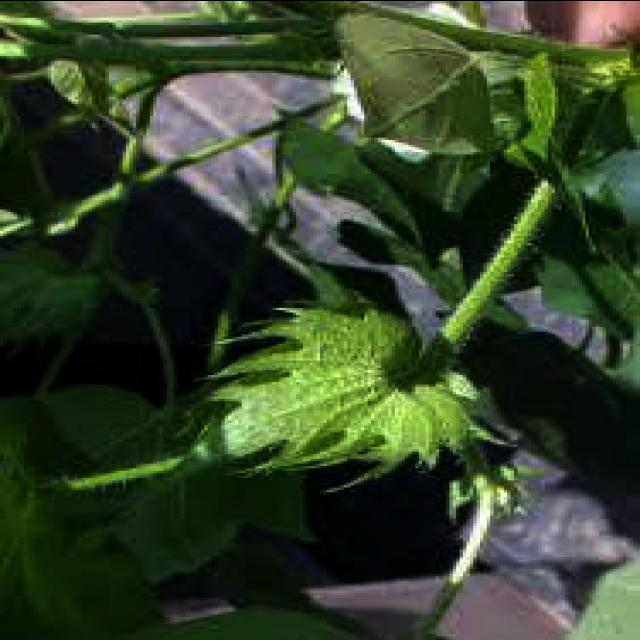Cotton Bud: (164, 302, 468, 498)
